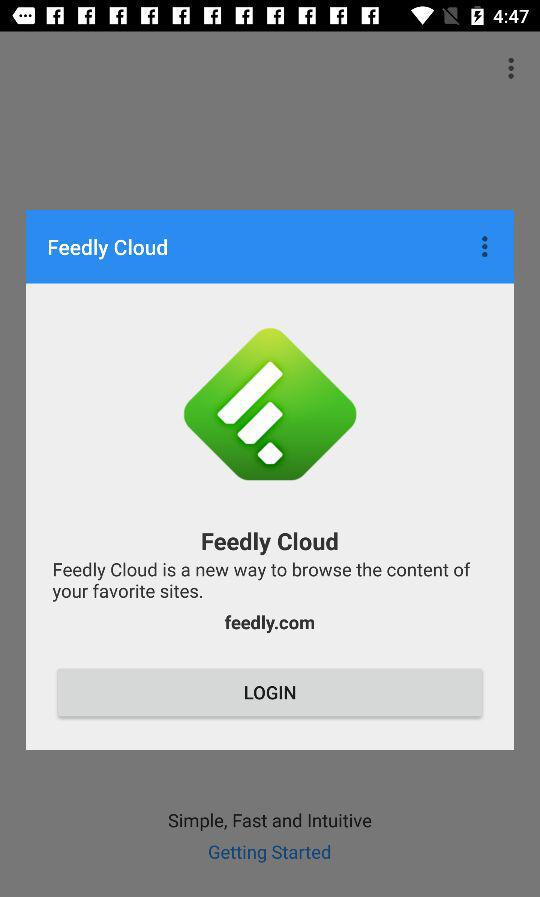Icon: (480, 235, 489, 260)
Image: (184, 328, 357, 481)
Modal: (26, 210, 515, 751)
Text: (53, 561, 472, 603), (169, 812, 372, 831), (201, 531, 339, 556), (49, 239, 168, 261), (209, 844, 331, 864), (225, 614, 316, 634)
TextButton: (57, 668, 484, 719)
UpperTaskBar: (1, 1, 540, 33)
